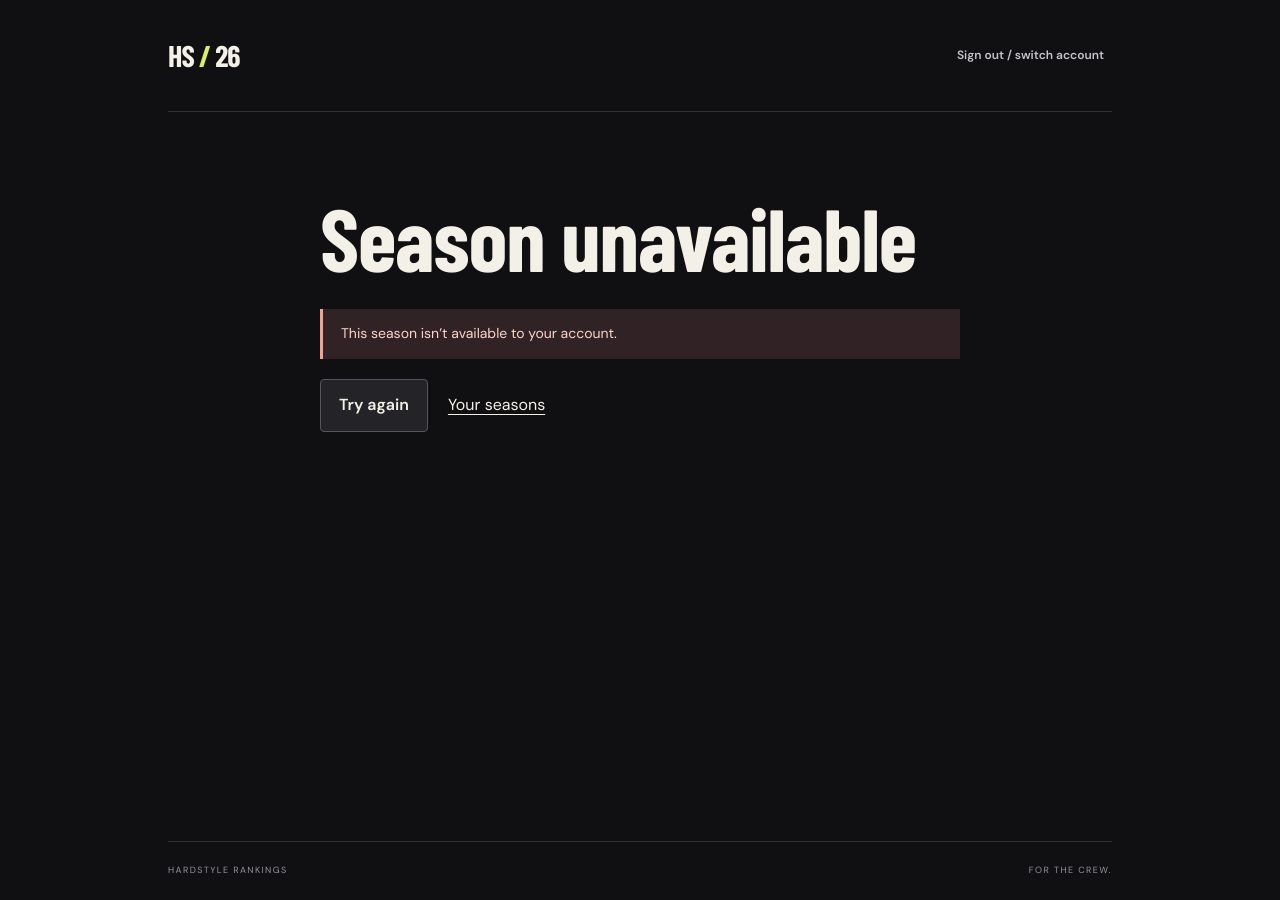
Scenario: invitation onboarding › handles unavailable seasons and transient progress errors
Check: the message shows "isn’t available to your account", box [341,324,617,342]
Click the button "Try again" at (374, 405), box [320,379,428,432]
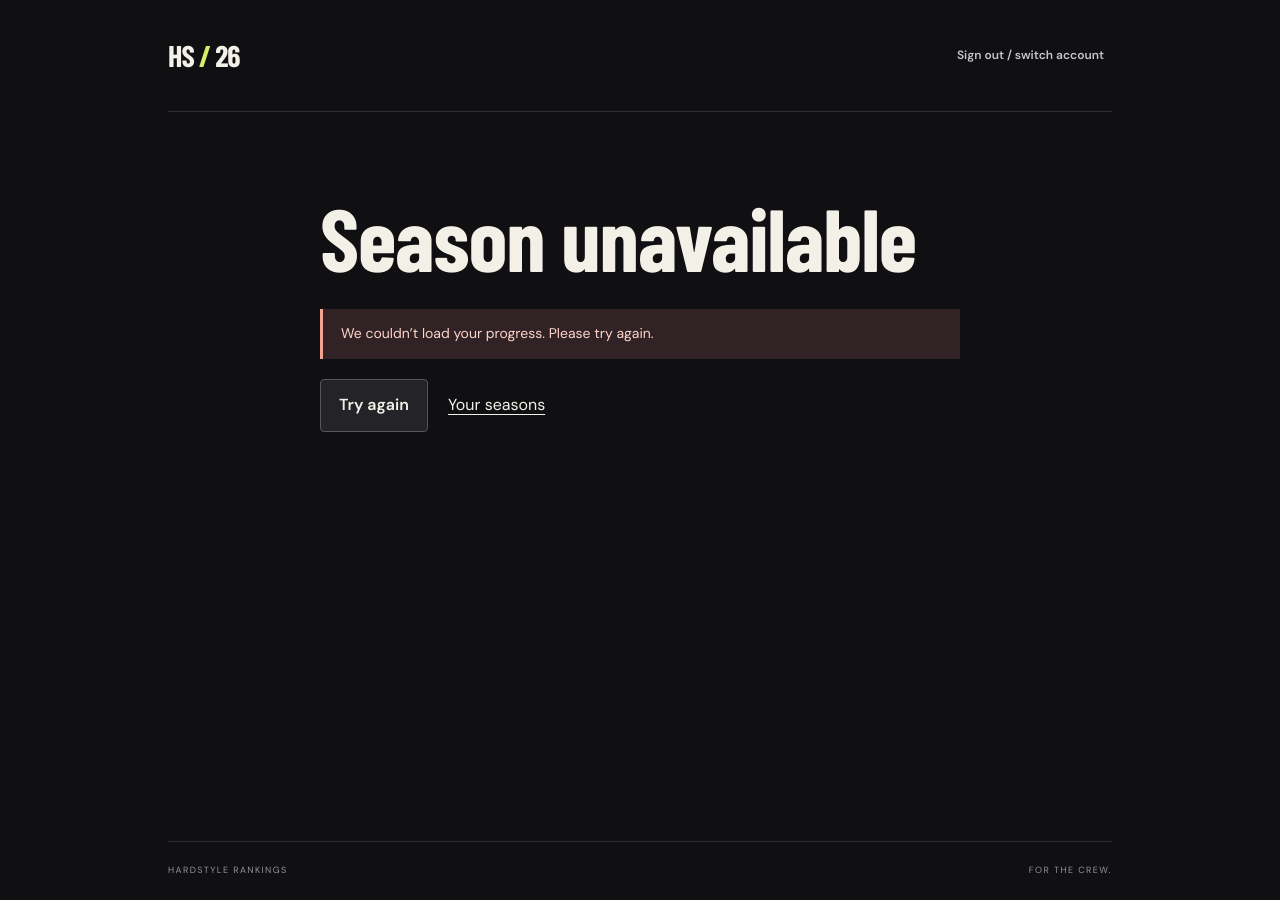
Check: the message shows "couldn’t load your progress", box [341,324,654,342]
Click the button "Try again" at (374, 405), box [320,379,428,432]
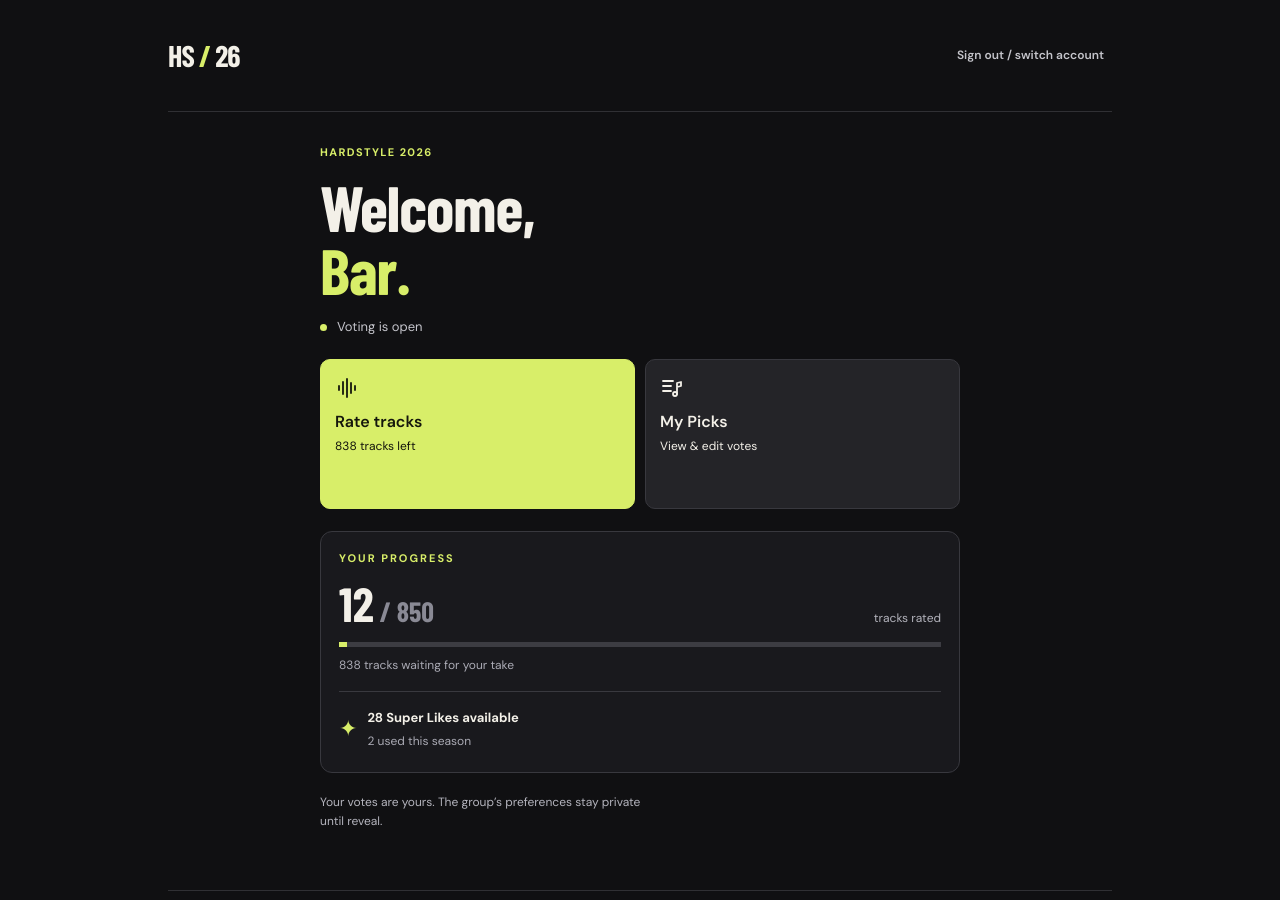
Check: the heading "Welcome, Bar." is shown, box [320,168,535,308]
